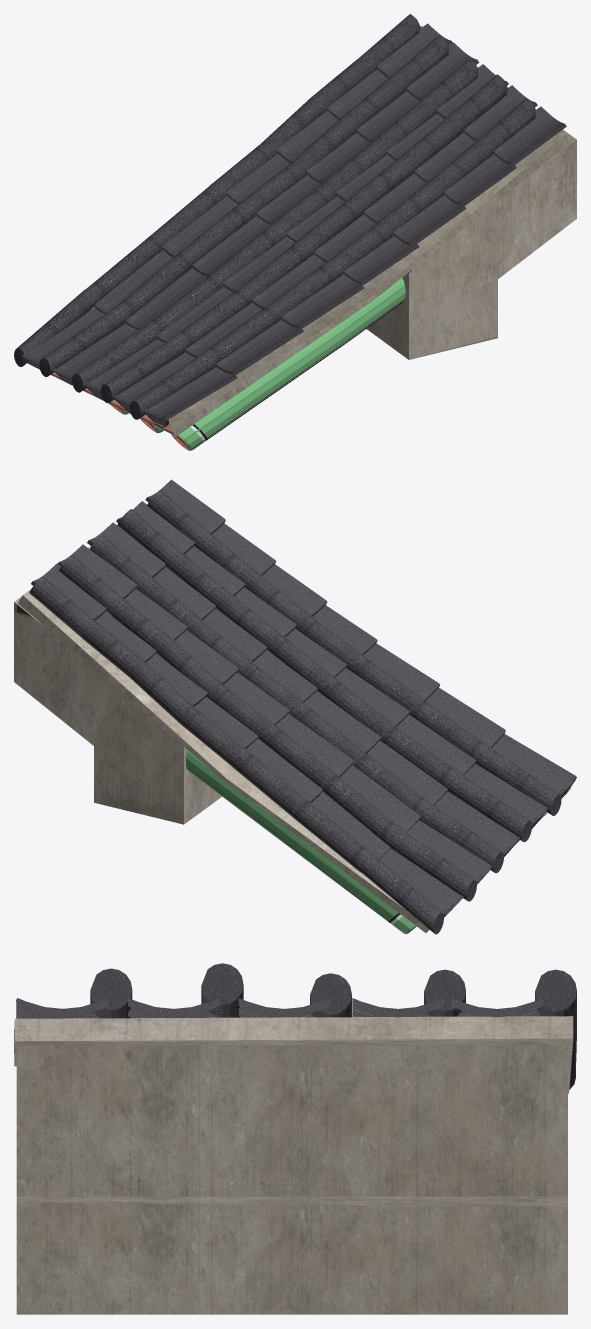
Rendered from SM_Roof_21.fbx.
3 renders of one model, top to bottom at view 1: azimuth 30°, elevation 25°; view 2: azimuth 150°, elevation 25°; view 3: azimuth 270°, elevation 25°, orthographic. The views are drawn at different scales.
Visible parts, largest first — view 1: SM_Roof_21; view 2: SM_Roof_21; view 3: SM_Roof_21.
Boxes of the visible parts, box(x1,y1,x2,y2) form: SM_Roof_21: box(14, 14, 576, 450); SM_Roof_21: box(14, 479, 576, 934); SM_Roof_21: box(14, 963, 576, 1314).
Bounding box in the file's own units: 333 × 201 × 205.
4 materials, 4 textured.
